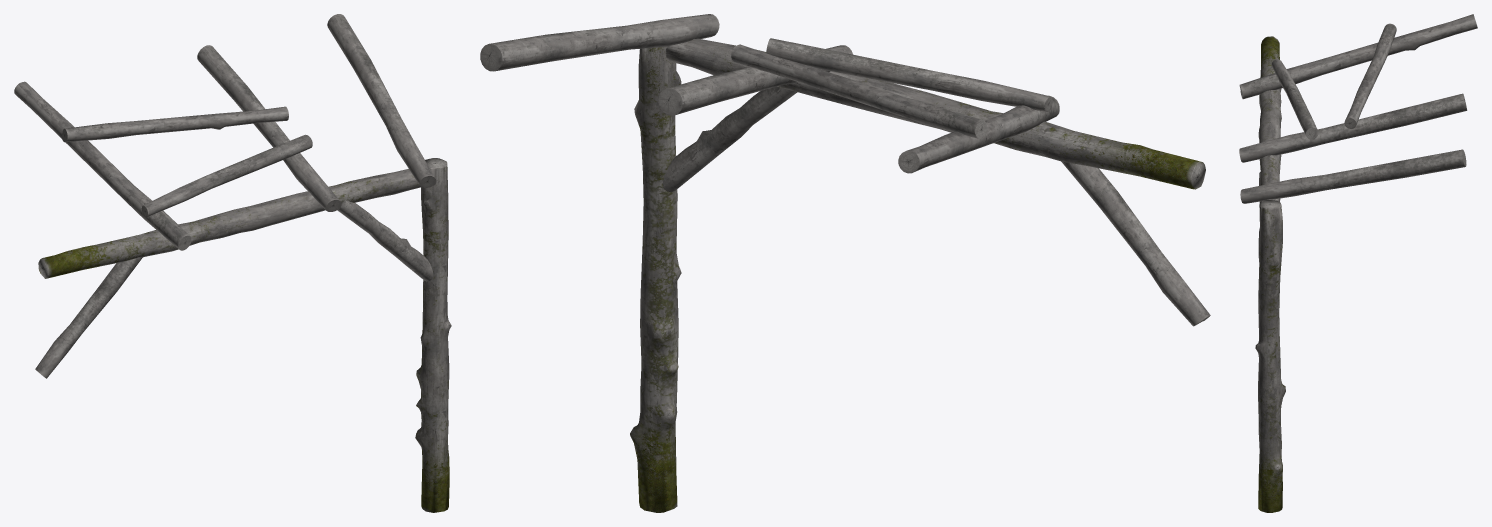
File: SM_SupportModule_5.fbx
The picture shows the model from 3 angles, left to right: view 1: azimuth 30°, elevation 25°; view 2: azimuth 150°, elevation 25°; view 3: azimuth 270°, elevation 25°; orthographic projection. The views are drawn at different scales.
Visible parts, largest first — view 1: SM_SupportModule_5_LOD0; view 2: SM_SupportModule_5_LOD0; view 3: SM_SupportModule_5_LOD0.
Boxes of the visible parts, <box> form: SM_SupportModule_5_LOD0: <box>14,14,451,512</box>; SM_SupportModule_5_LOD0: <box>480,14,1210,512</box>; SM_SupportModule_5_LOD0: <box>1239,14,1477,512</box>.
Size of the model in its own units: 316 by 176 by 298.
